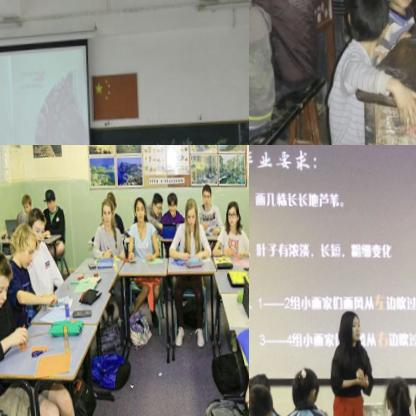head: (344, 0, 391, 42), (8, 221, 39, 270), (291, 363, 322, 405), (384, 372, 413, 416), (340, 307, 362, 347), (0, 246, 14, 308), (249, 384, 275, 416), (27, 206, 46, 244), (249, 371, 270, 405), (182, 193, 199, 230), (224, 196, 242, 228), (99, 198, 115, 227), (44, 185, 58, 213), (132, 195, 146, 222), (164, 189, 178, 215), (104, 189, 118, 213), (200, 182, 212, 209), (151, 190, 162, 216), (18, 193, 32, 213)
